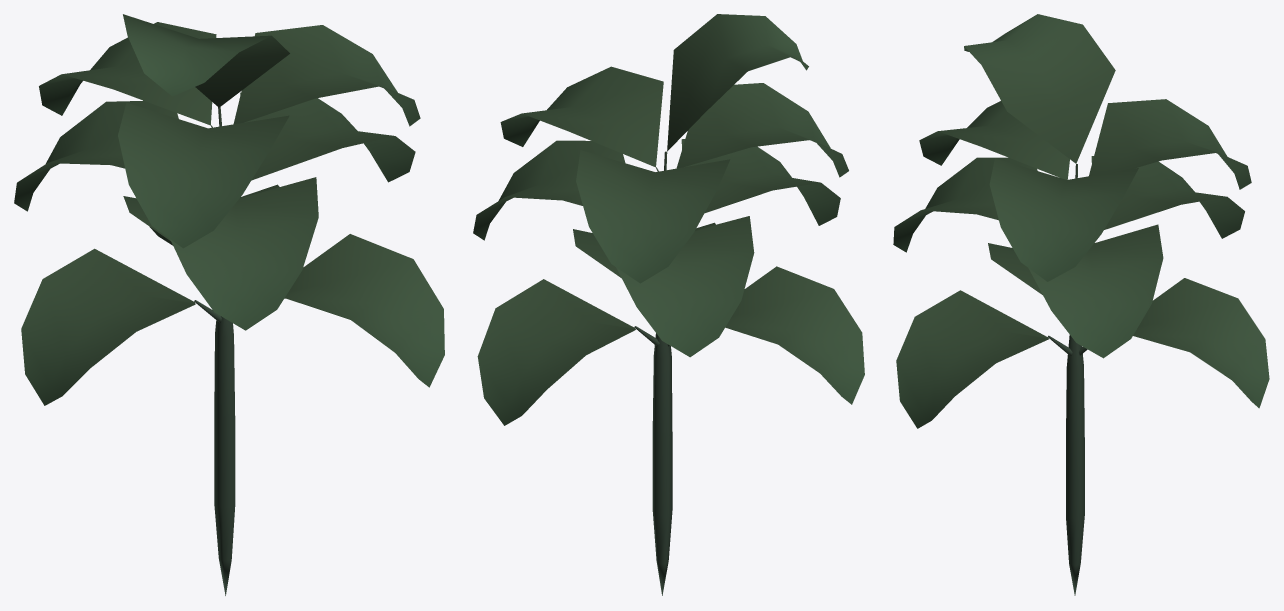
File: plants-leafy-plants-drooping-leaf-plant_v2.glb
3 views of the same model, side by side, from view 1: azimuth 30°, elevation 25°; view 2: azimuth 150°, elevation 25°; view 3: azimuth 270°, elevation 25° (orthographic). The views are drawn at different scales.
Parts seen in each view (by area): view 1: Drooping Leaf Plant_v2; view 2: Drooping Leaf Plant_v2; view 3: Drooping Leaf Plant_v2.
Part boxes in pixels (<box>): Drooping Leaf Plant_v2: <box>14,14,444,595</box>; Drooping Leaf Plant_v2: <box>473,14,864,595</box>; Drooping Leaf Plant_v2: <box>893,14,1269,595</box>.
Size of the model in its own units: 0.3311 by 0.5 by 0.3205.
